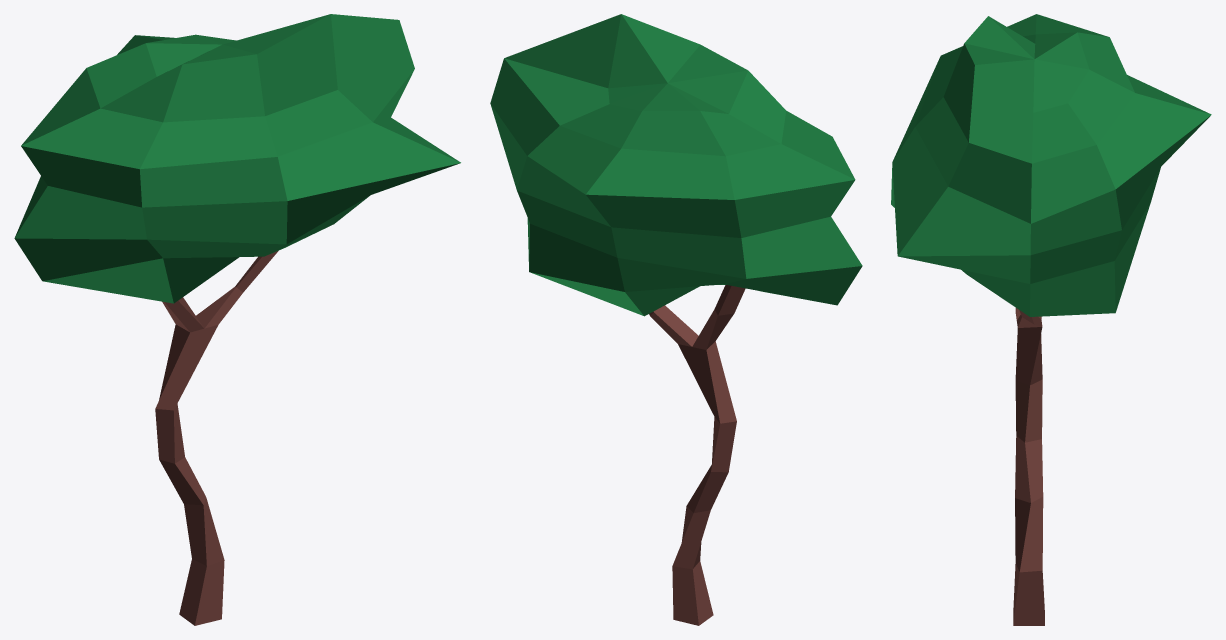
The model's file is Tree.fbx.
The picture shows the model from 3 angles, left to right: view 1: azimuth 30°, elevation 25°; view 2: azimuth 150°, elevation 25°; view 3: azimuth 270°, elevation 25°; orthographic projection. The views are drawn at different scales.
Parts seen in each view (by area): view 1: Cube; view 2: Cube; view 3: Cube.
Part boxes in pixels (box(x1,y1,x2,y2)): Cube: box(14, 14, 460, 625); Cube: box(490, 14, 862, 625); Cube: box(891, 14, 1211, 625).
Size of the model in its own units: 441 by 632 by 304.
